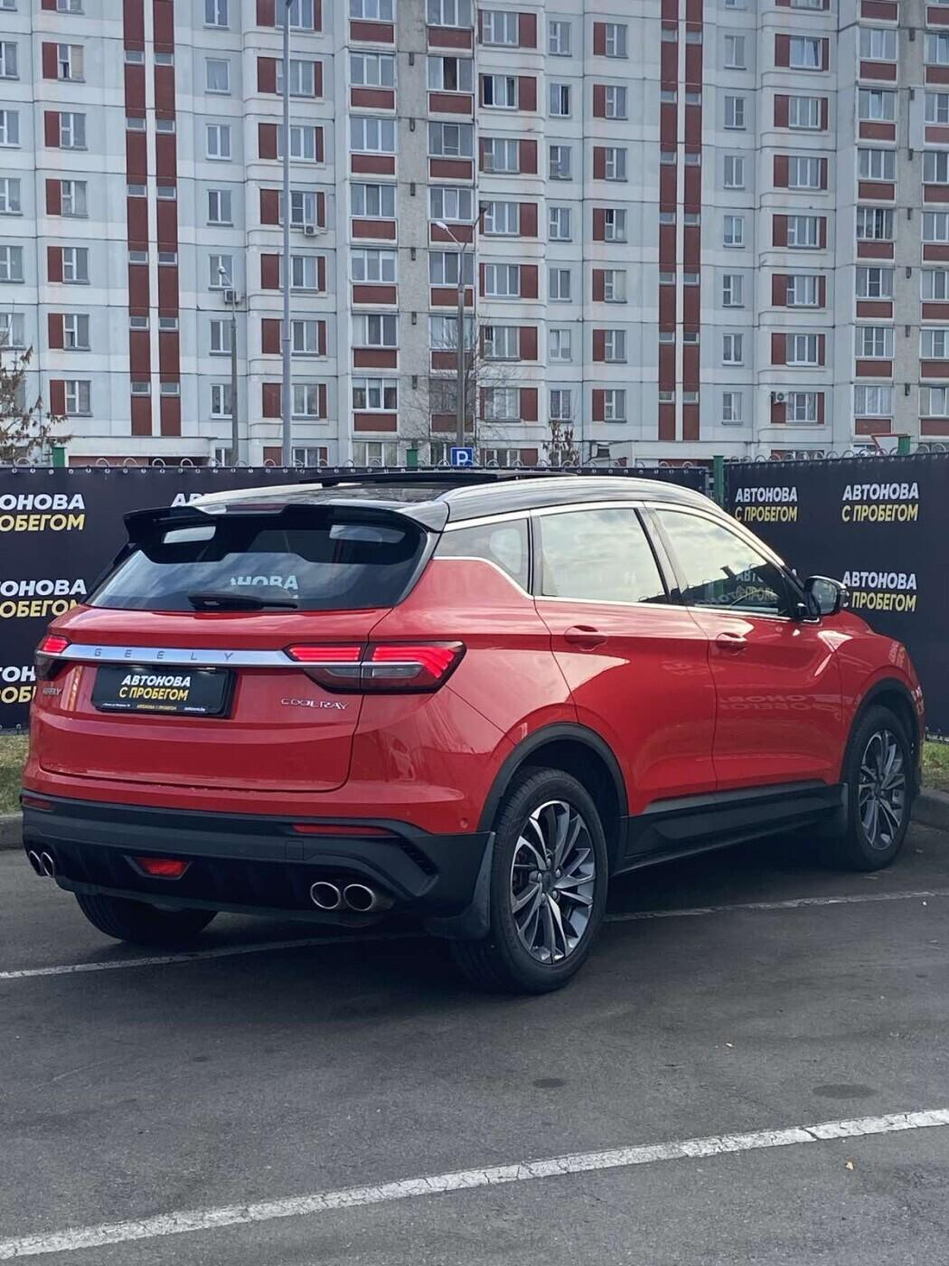Coolray_2019-2023: (14, 468, 933, 984)
